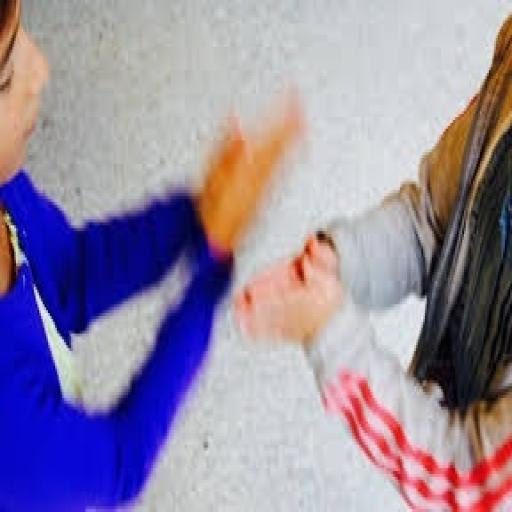clapping: (0, 0, 306, 509), (231, 12, 510, 509)
